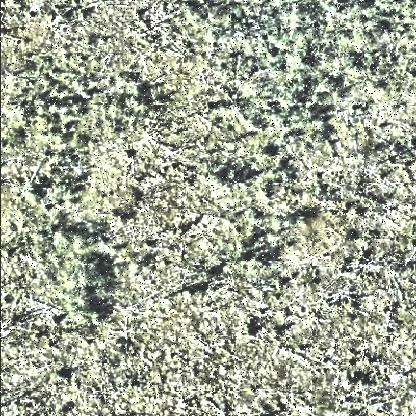tree-top: (361, 5, 405, 51), (81, 255, 115, 295), (68, 293, 104, 327), (207, 166, 234, 192), (310, 112, 333, 135)
